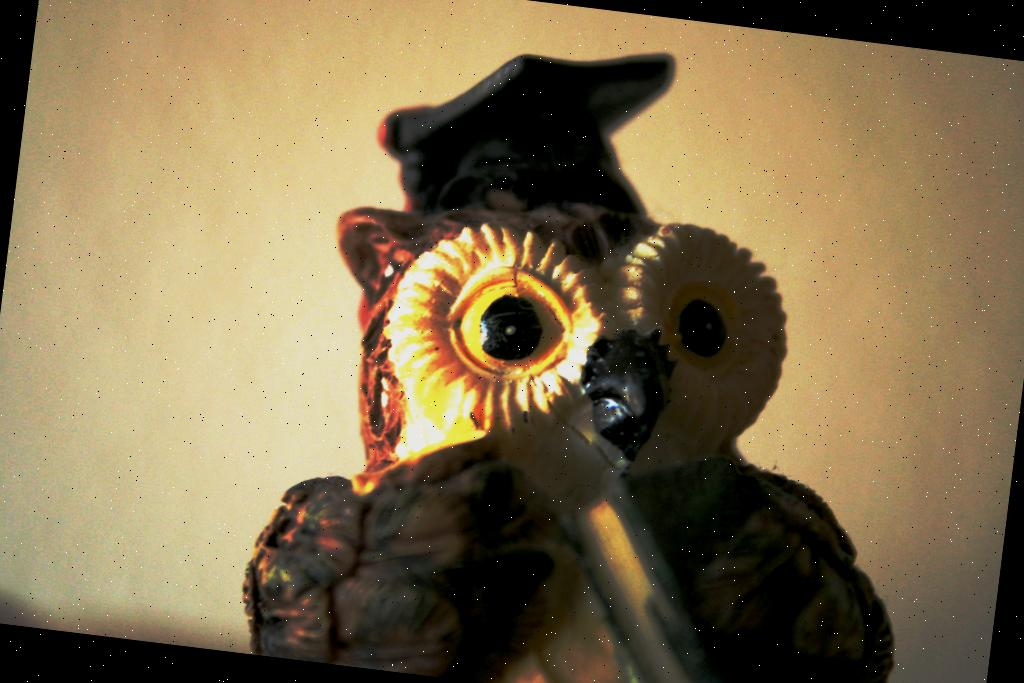Owl: (221, 166, 951, 683)
